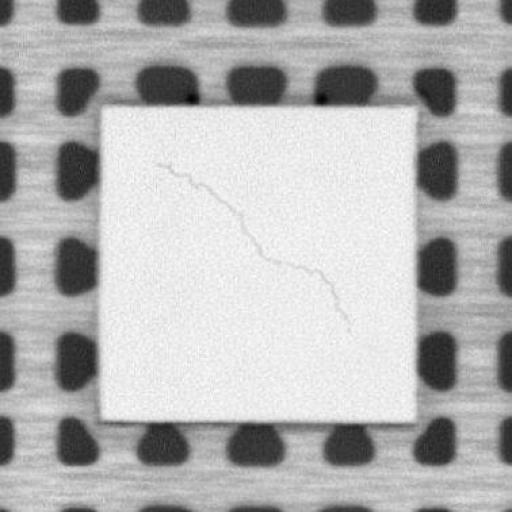DIE_CRACK: (154, 158, 344, 320)
